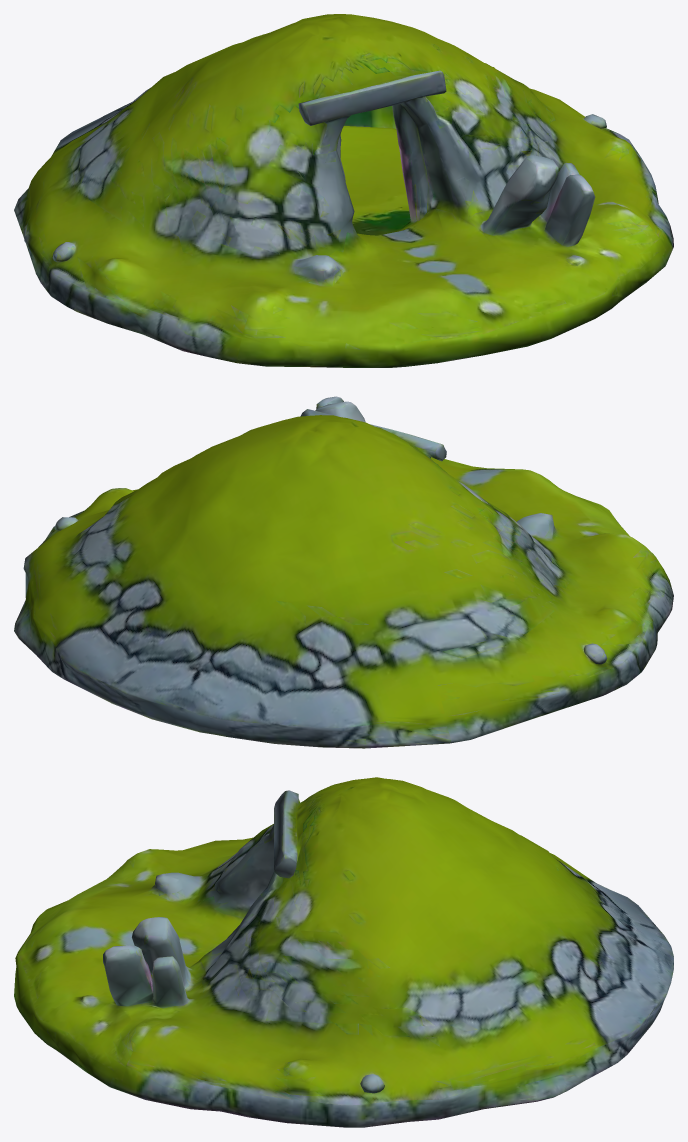
File: barrow.glb
3 views of the same model, one above another, from view 1: azimuth 30°, elevation 25°; view 2: azimuth 150°, elevation 25°; view 3: azimuth 270°, elevation 25° (orthographic).
Parts seen in each view (by area): view 1: 0; view 2: 0; view 3: 0.
Boxes of the visible parts, x1=… form: 0: x1=14, y1=14, x2=673, y2=367; 0: x1=14, y1=396, x2=673, y2=748; 0: x1=14, y1=777, x2=673, y2=1127.
Bounding box in the file's own units: 1.91 × 0.6146 × 1.89.
1 material, 1 textured.
